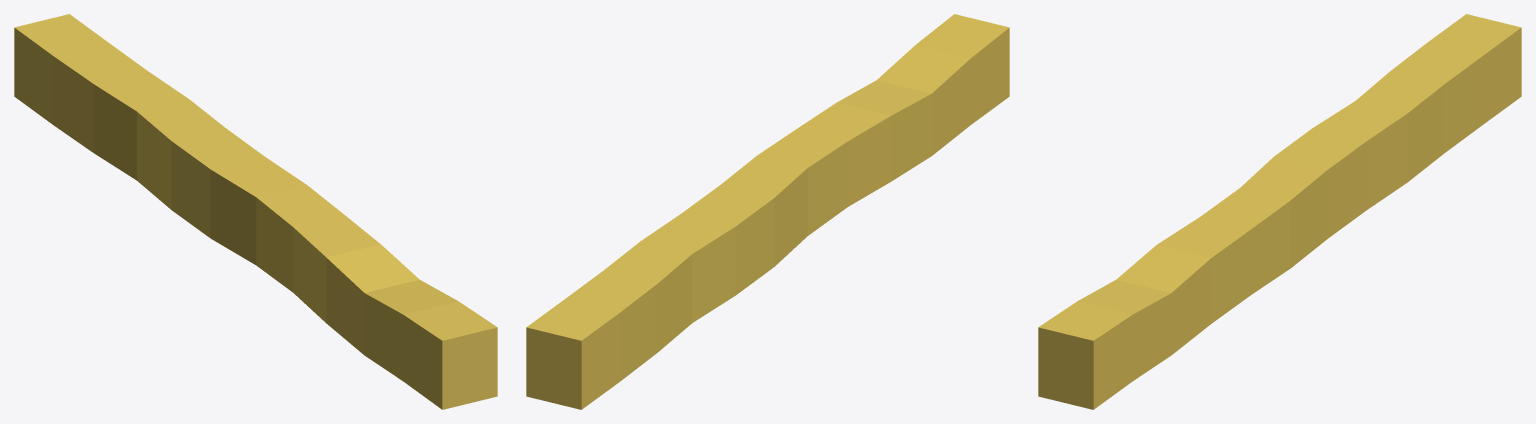
The model's file is 右横木柱1.fbx.
3 views of the same model, side by side, from view 1: azimuth 30°, elevation 25°; view 2: azimuth 150°, elevation 25°; view 3: azimuth 330°, elevation 25° (orthographic).
Parts seen in each view (by area): view 1: R.wood.2; view 2: R.wood.2; view 3: R.wood.2.
Part boxes in pixels (x1=…): R.wood.2: x1=14, y1=14, x2=497, y2=409; R.wood.2: x1=526, y1=14, x2=1009, y2=409; R.wood.2: x1=1038, y1=14, x2=1521, y2=409.
Size of the model in its own units: 57.63 by 67.33 by 728.
